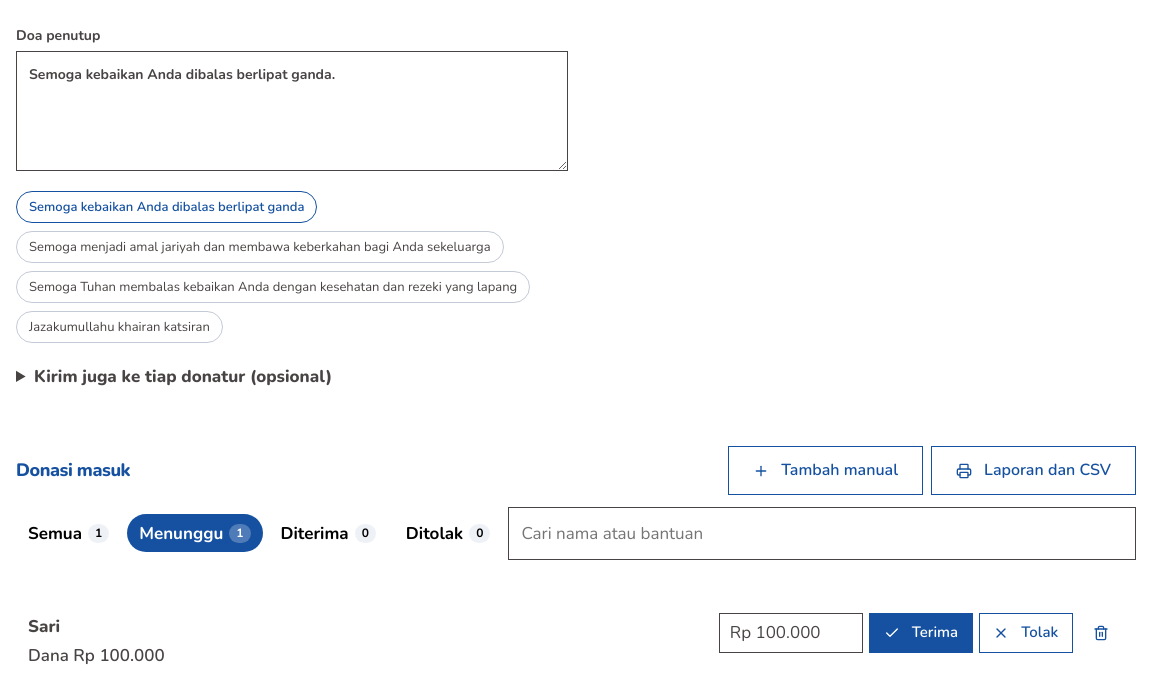
Scenario: receives a donation with the amount that actually came in, and counts it
(page scrolled)
Replace the text in the field named "Jumlah yang diterima" with "Rp 150.000". click: (791, 633)
box: [719,613,863,653]
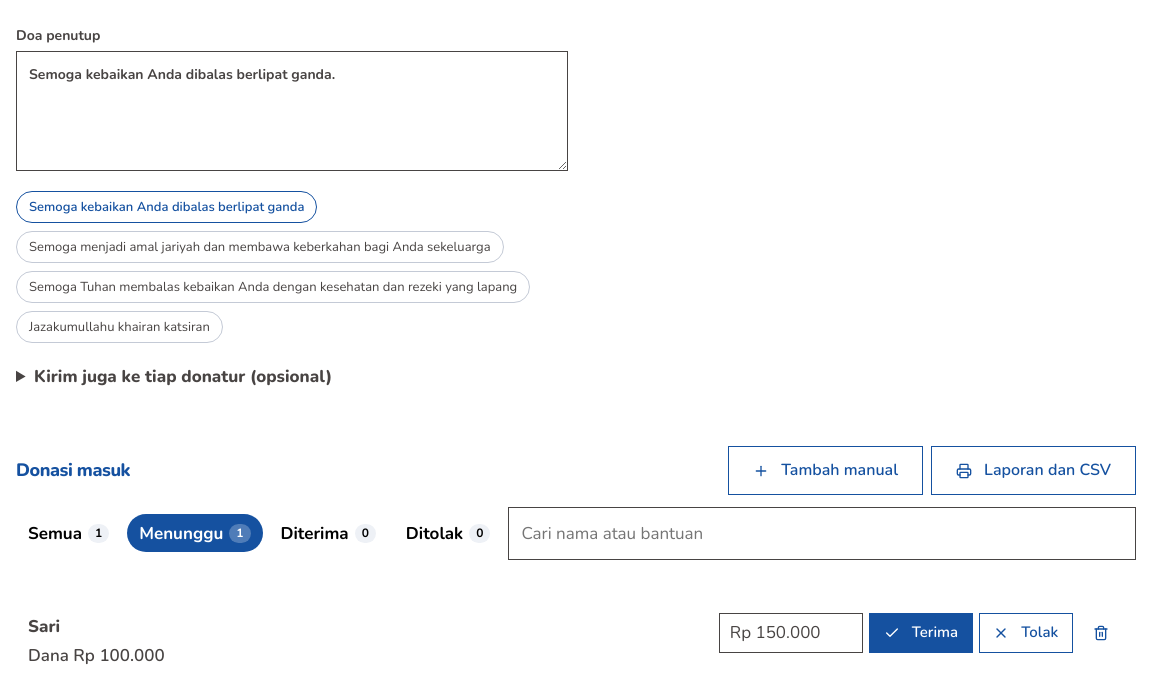
Click the button "Terima". click: (921, 633)
box: [869,613,973,653]
(page scrolled)
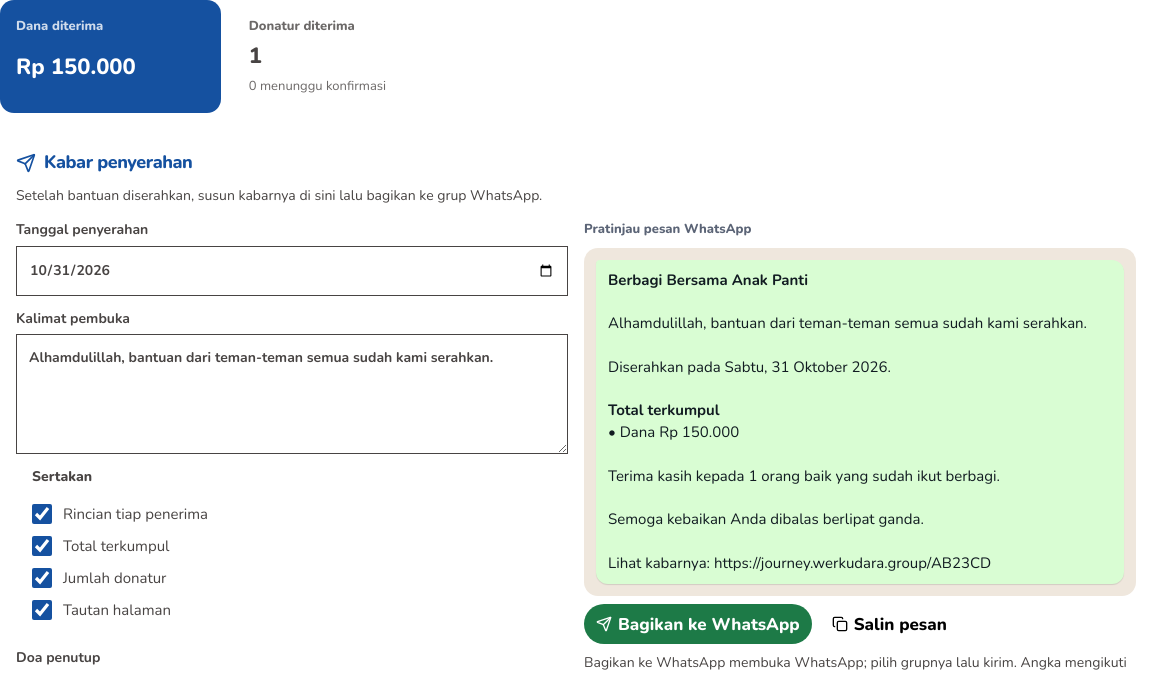
Expected: the text "Rp 150.000" is shown, [16,52,136,82]
